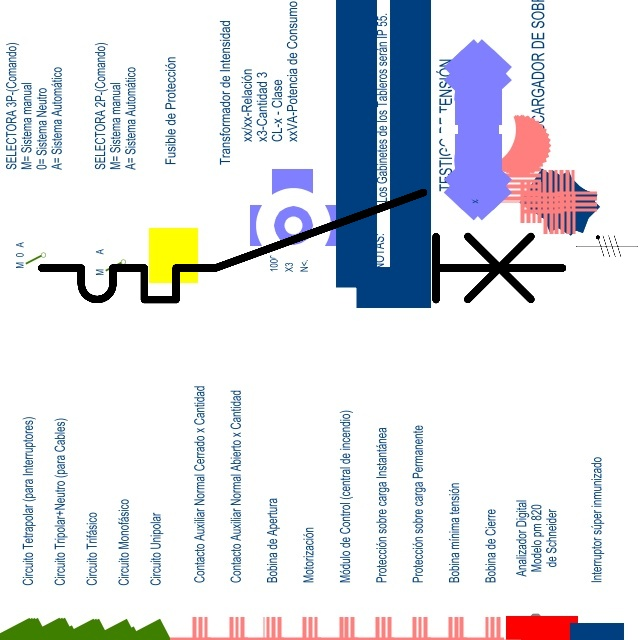interruptor_termomagnetico: (28, 179, 576, 313)
